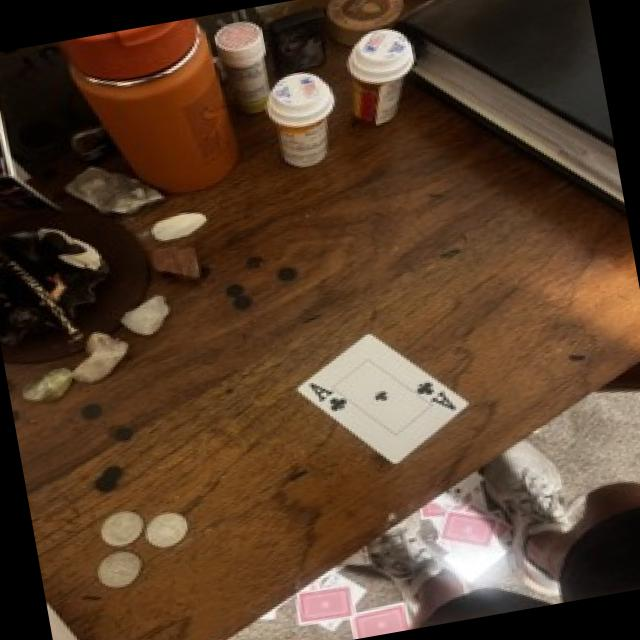Ace of clubs: (297, 334, 467, 463)
